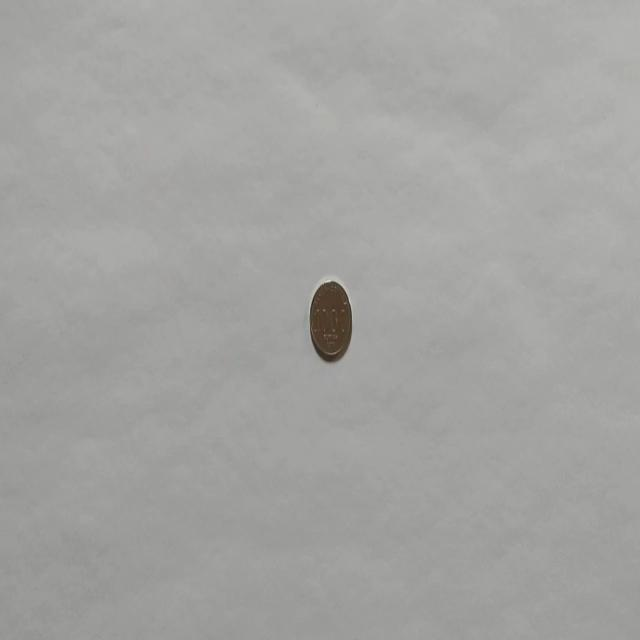seribu rupiah koin: (308, 277, 352, 363)
